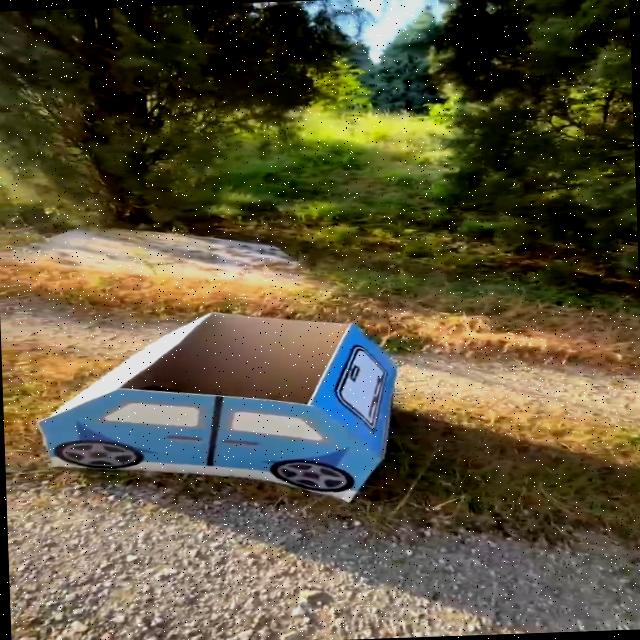blue_car: (0, 262, 445, 545)
